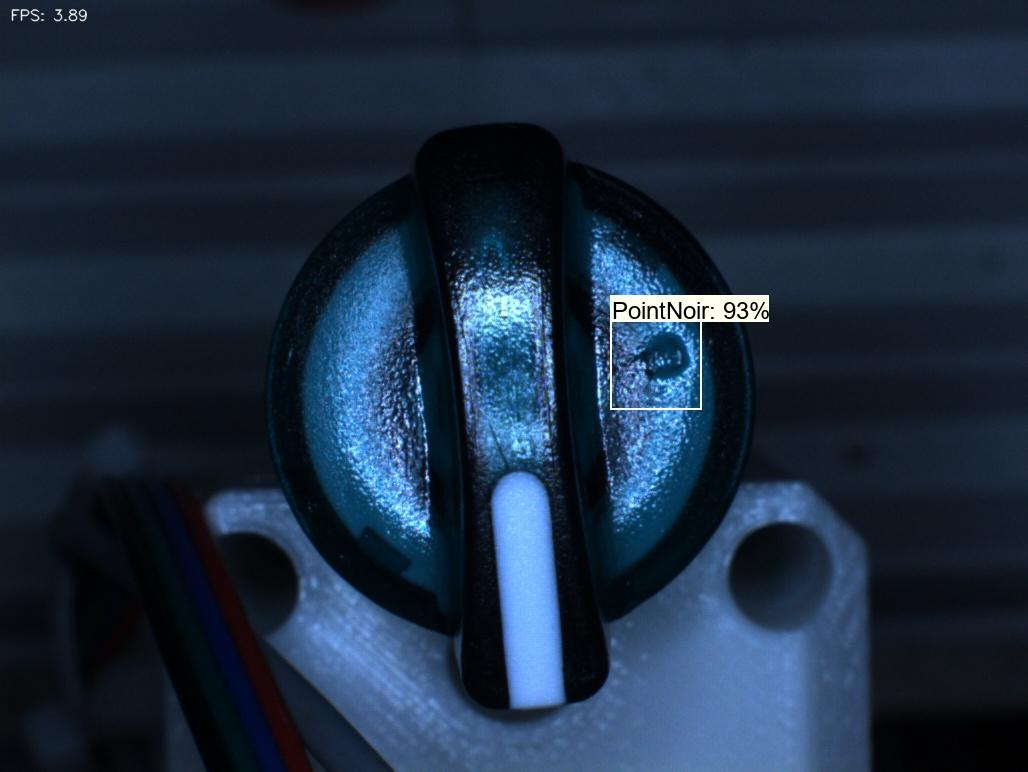Choc: (613, 306, 709, 410)
